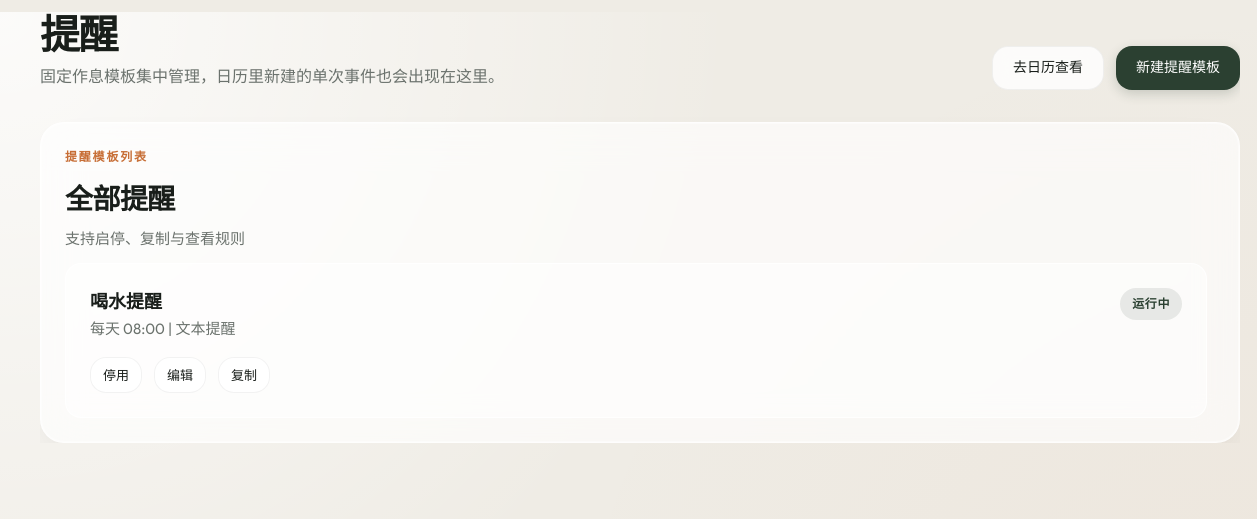
RemindersPage › shows fallback error when duplication fails with non-error rejection
The width and height of the screenshot is (1257, 519).
Click the button with aria-label "复制 喝水提醒": x=244, y=375 [218,357,270,393]
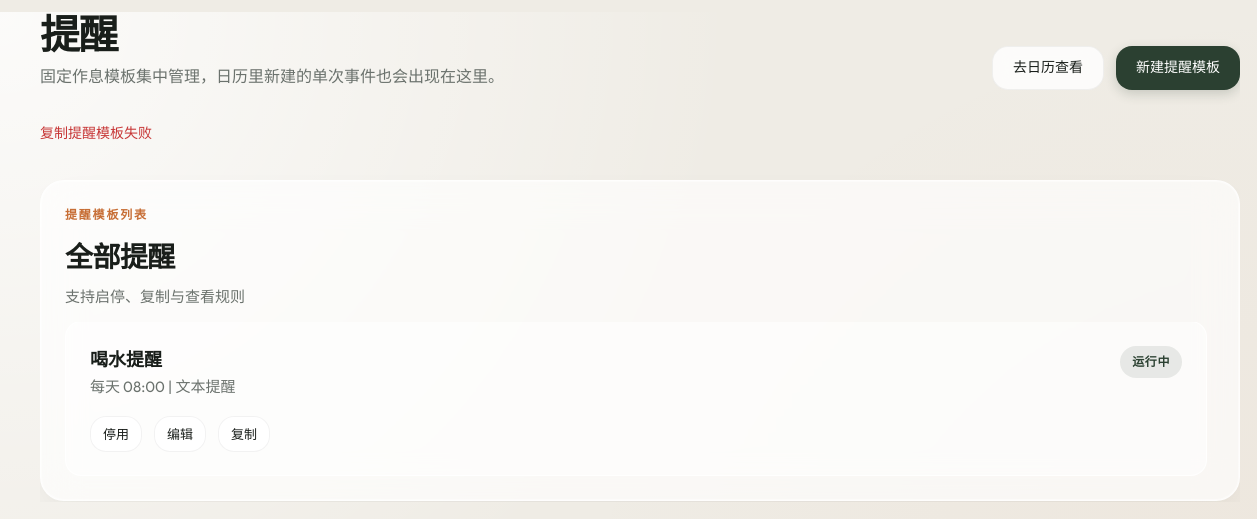
expect the text "复制提醒模板失败" is shown: met, box [40,124,152,142]
